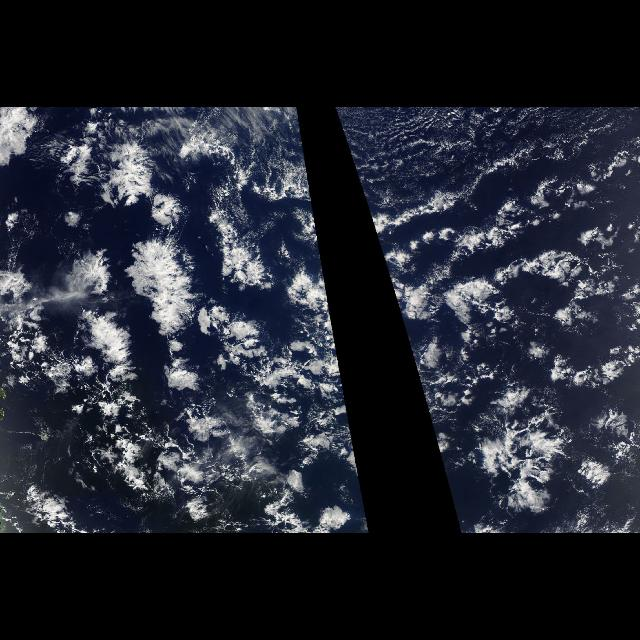Flower: (4, 133, 368, 532), (348, 146, 636, 514)
